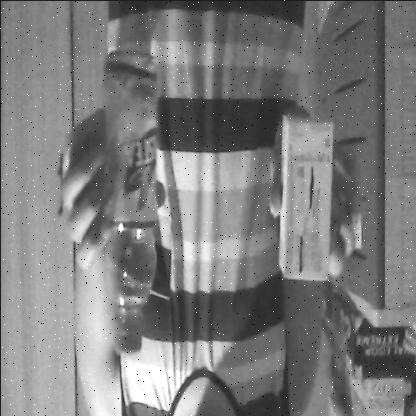Plastic Bottle: (93, 33, 166, 380)
